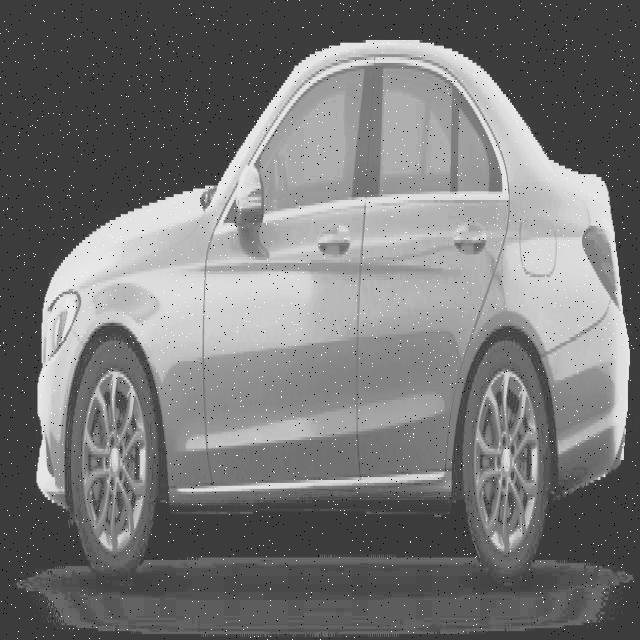Car: (34, 10, 632, 613)
